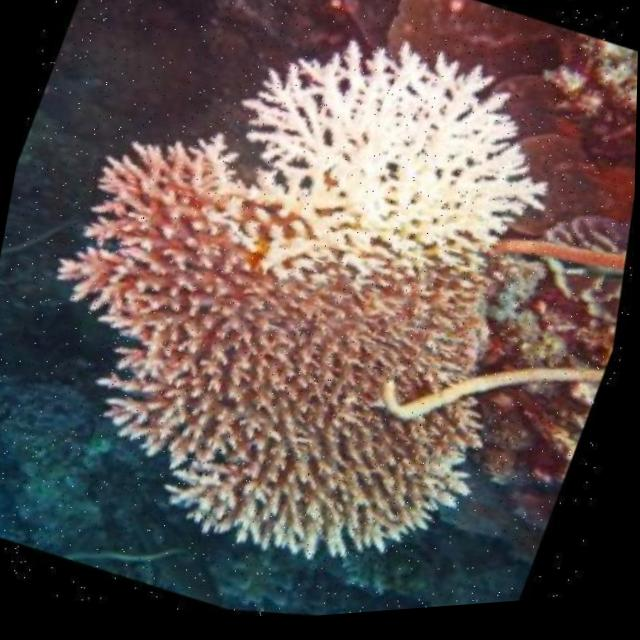Bleached Coral: (218, 10, 576, 318)
Healthy Coral: (52, 246, 523, 613)
